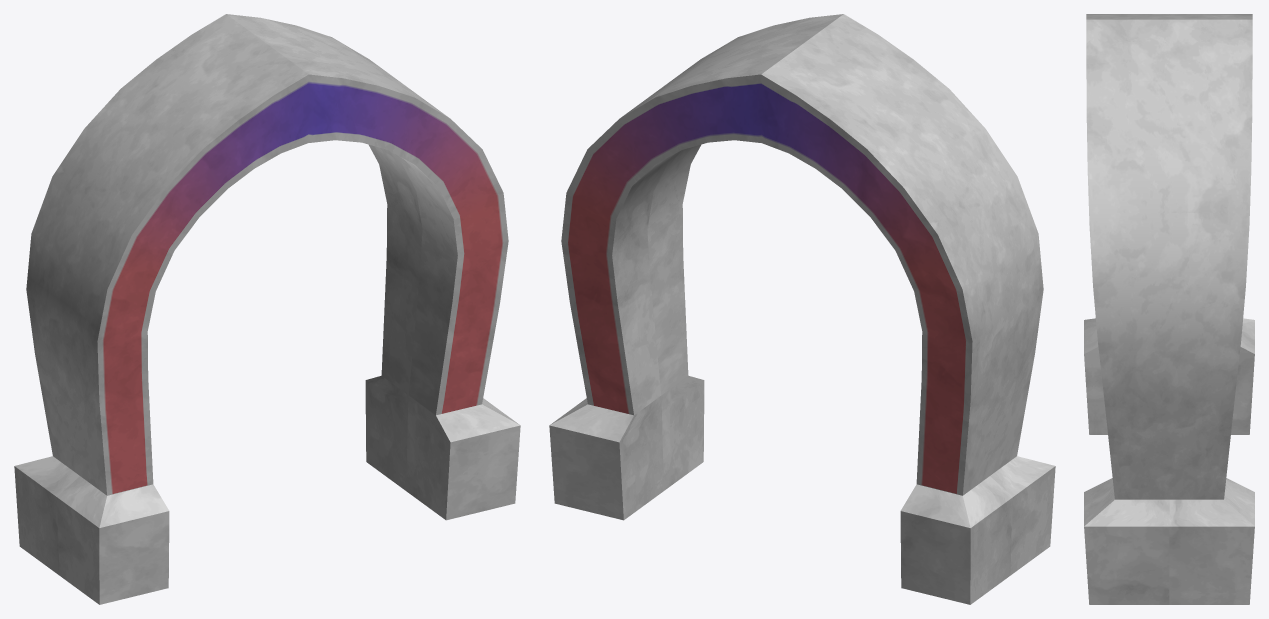
File: Portal_ctext.FBX
3 views of the same model, side by side, from view 1: azimuth 30°, elevation 25°; view 2: azimuth 150°, elevation 25°; view 3: azimuth 270°, elevation 25° (orthographic).
Visible parts, largest first — view 1: PortalV2; view 2: PortalV2; view 3: PortalV2.
Boxes of the visible parts, x1,y1,x2,y2 form: PortalV2: [14, 14, 520, 604]; PortalV2: [549, 14, 1055, 604]; PortalV2: [1084, 14, 1254, 604].
Bounding box in the file's own units: 77.58 × 84.6 × 27.12.
